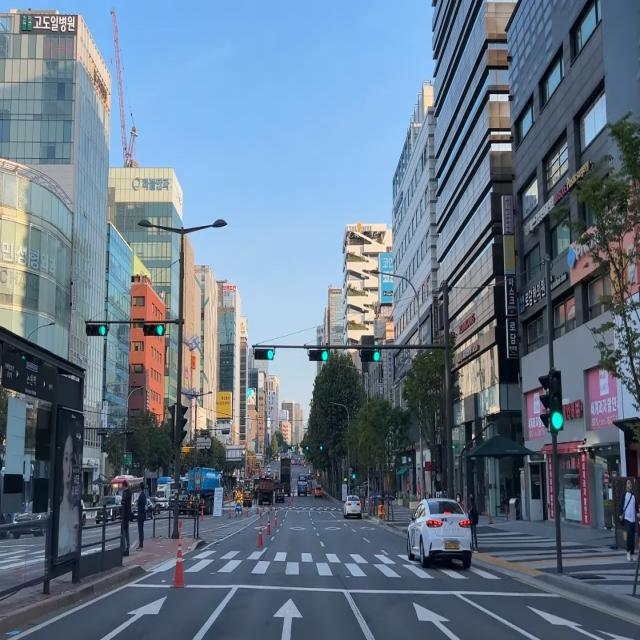Green Light: (98, 323, 106, 336), (156, 323, 164, 336), (266, 348, 274, 361), (372, 350, 380, 362), (321, 350, 328, 361)
